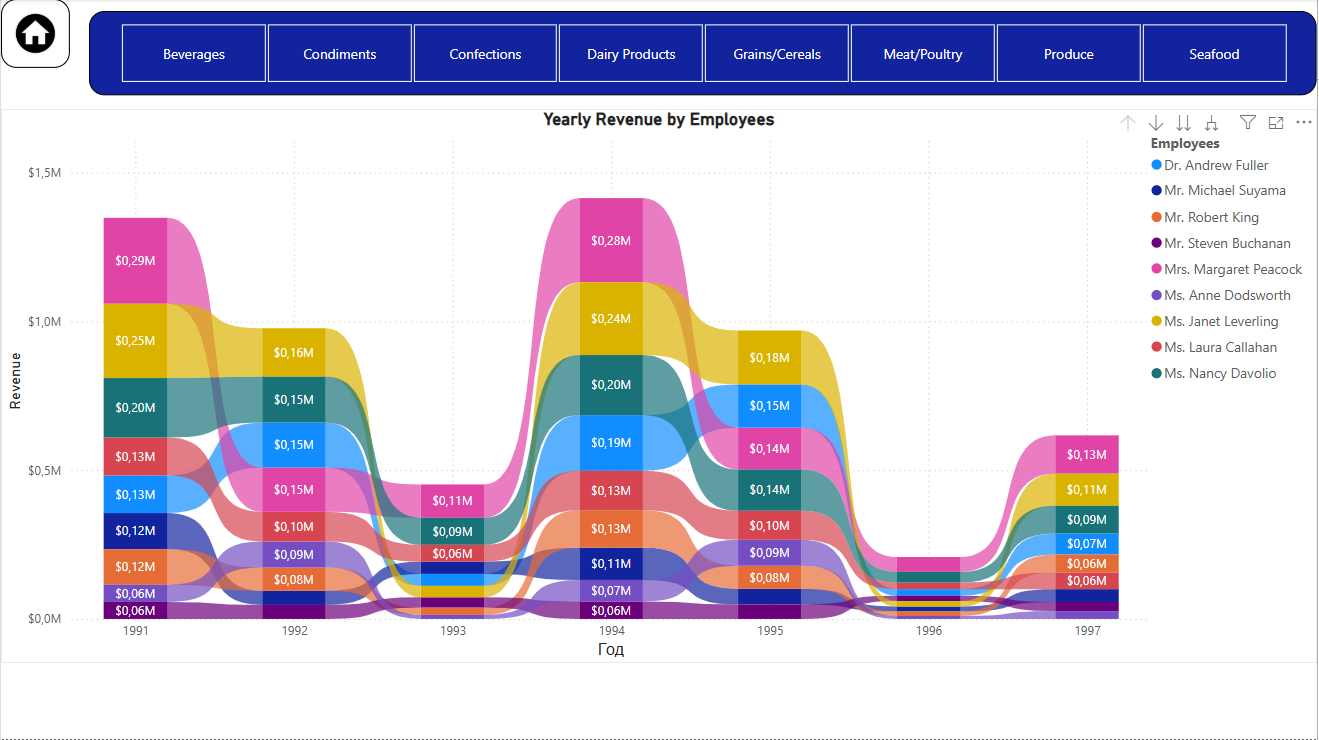

What the dashboard file says about the page in this screenshot:
{"tool":"powerbi","page":{"name":"Revenue by Employees","canvas":[1280,720],"ordinal":6},"visuals":[{"type":"slicer","fields":{"Values":["categories.category_name"]},"box":[85.5,11.3,1194.5,82.4],"z":0},{"type":"ribbonChart","title":"Yearly Revenue by Employees","fields":{"Category":["Calendar.Date.Variation.Иерархия дат.Год","Calendar.Date.Variation.Иерархия дат.Квартал","Calendar.Date.Variation.Иерархия дат.Месяц","Calendar.Date.Variation.Иерархия дат.День"],"Y":["Nw_orders_derails_total.Revenue"],"Series":["employees.Names"]},"box":[0,107.2,1280,539],"z":1000},{"type":"image","box":[0,0,67.1,67.1],"z":2000}]}

Visuals, with their boxes in screenshot pixels (x1, y1, x2, y2), scaled from the page's 1280x720 canvas onto the 1319x740 screenshot:
slicer - categories.category_name: <box>88,12,1318,96</box>
"Yearly Revenue by Employees" ribbonChart: <box>0,110,1318,664</box>
image: <box>0,0,69,69</box>
